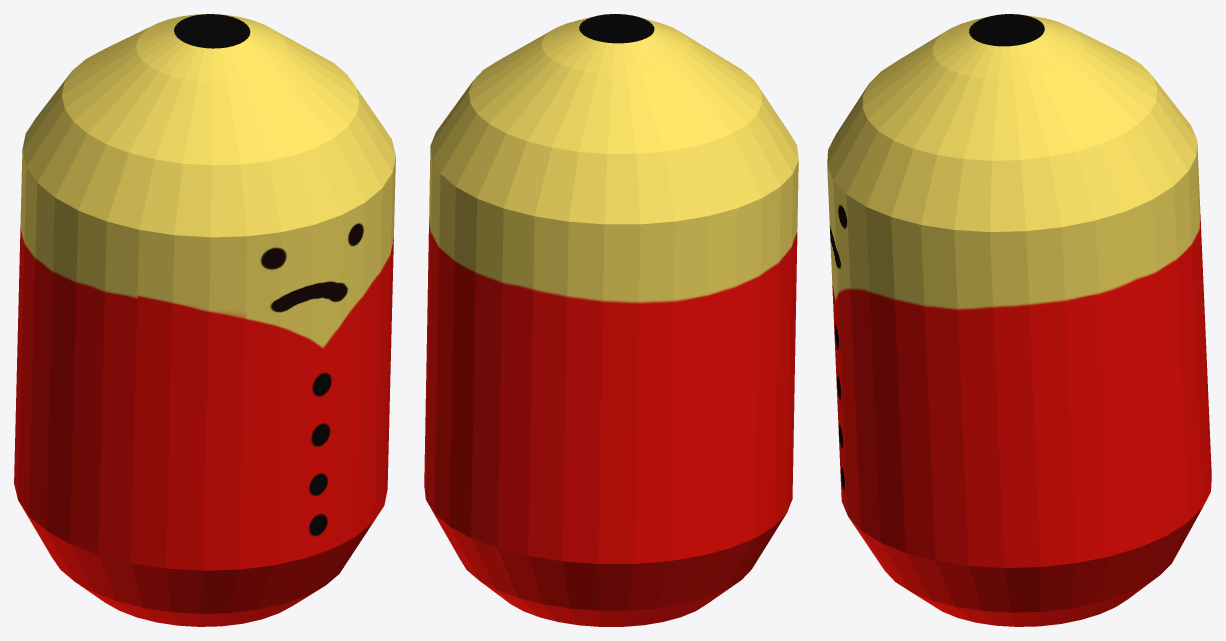
Rendered from customer.fbx.
The picture shows the model from 3 angles, left to right: view 1: azimuth 30°, elevation 25°; view 2: azimuth 150°, elevation 25°; view 3: azimuth 270°, elevation 25°; orthographic projection.
Parts seen in each view (by area): view 1: Cylinder; view 2: Cylinder; view 3: Cylinder.
Boxes of the visible parts, x1,y1,x2,y2 form: Cylinder: (14, 14, 395, 626); Cylinder: (424, 14, 798, 626); Cylinder: (827, 14, 1211, 626).
Size of the model in its own units: 200 by 335 by 207.
Materials: 1 (1 with a texture image).
